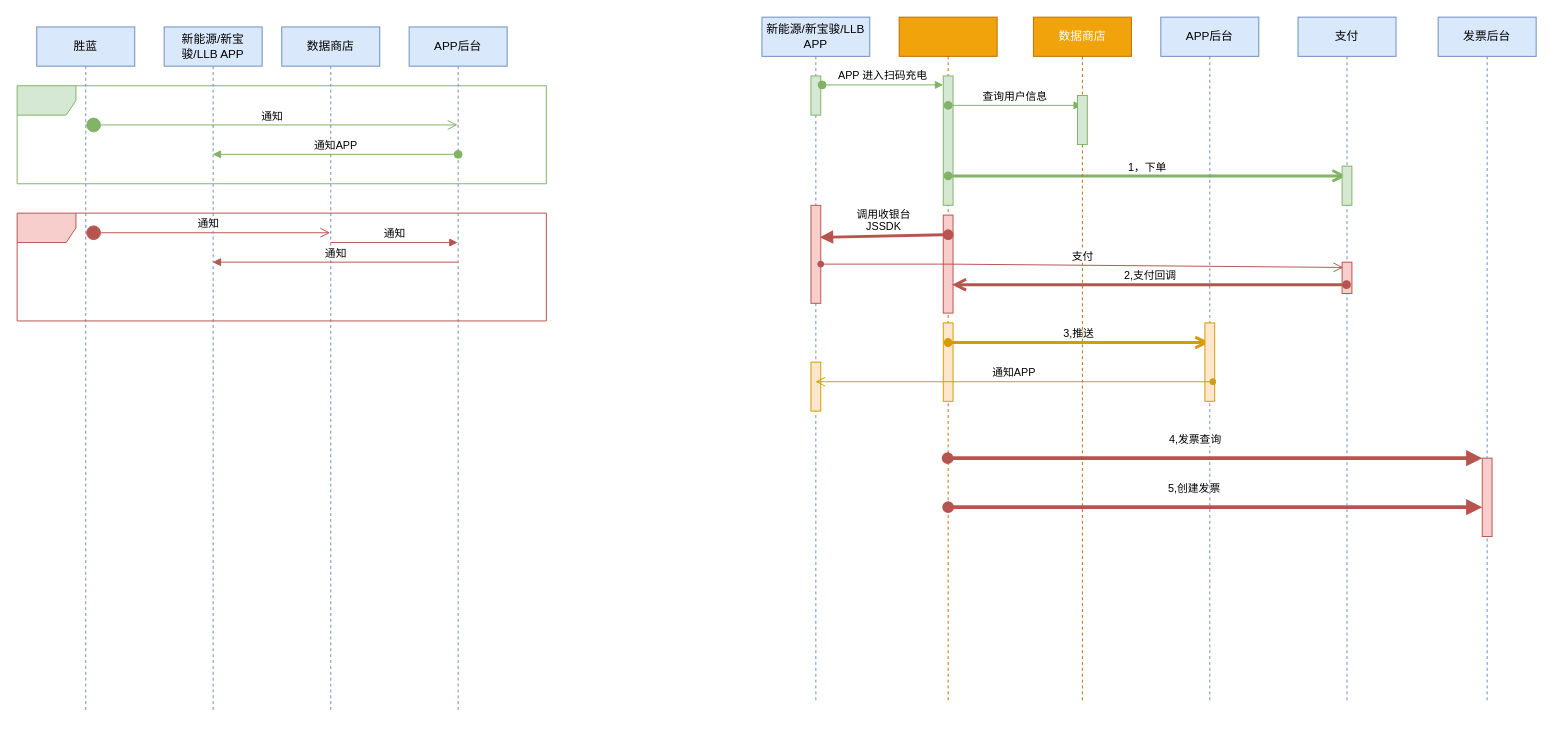
Image size: 1553x730. Some labels were removed from this diagram. The shapes that lost their labels are listed below. From the top down, each one's centre as x and y in pixels, then its label:
At point 281,134: "原来".
At point 281,266: "新方案".
At point 947,359: "胜蓝 H5 & 后台".
